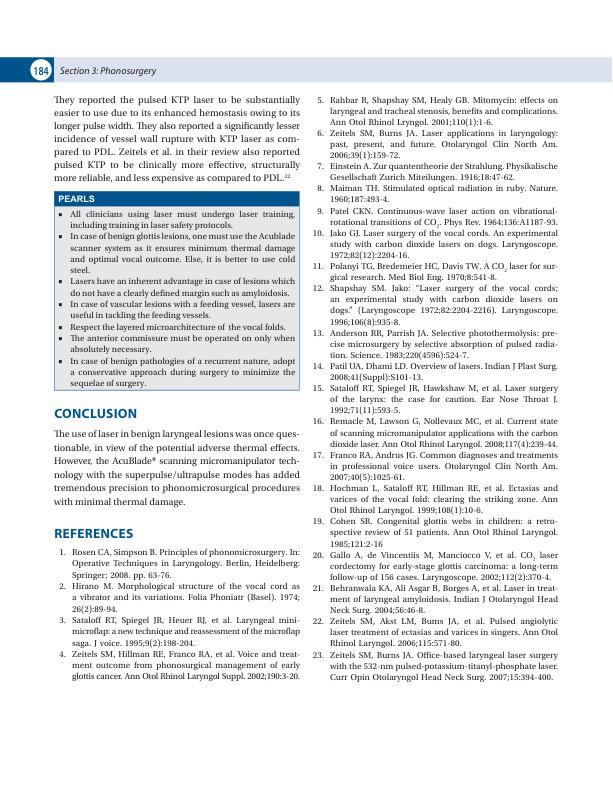caption: (58, 194, 96, 203)
header: (59, 66, 157, 77)
list: (312, 95, 559, 684), (55, 208, 300, 391), (57, 547, 302, 683)
section-heading: (54, 527, 134, 539), (54, 407, 138, 418)
text: (53, 94, 301, 186), (53, 428, 301, 508)
